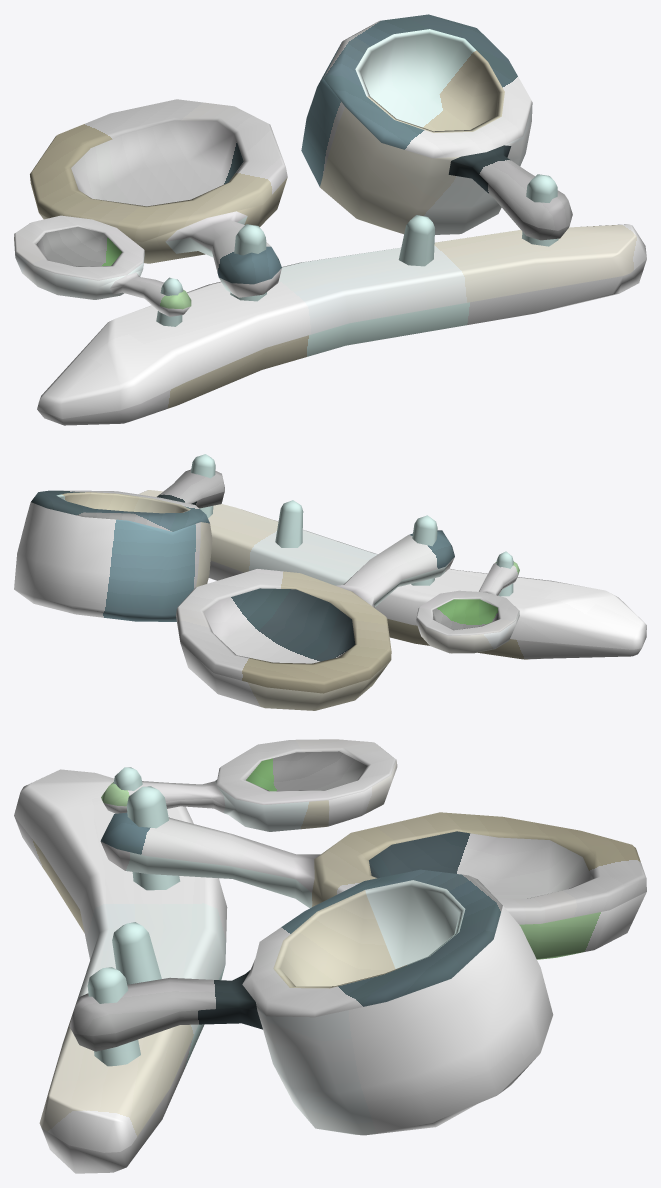
File: P_StoneWallPotRack.glb
The picture shows the model from 3 angles, top to bottom: view 1: azimuth 30°, elevation 25°; view 2: azimuth 150°, elevation 25°; view 3: azimuth 270°, elevation 25°; orthographic projection. The views are drawn at different scales.
Visible parts, largest first — view 1: P_StoneWallPotRack; view 2: P_StoneWallPotRack; view 3: P_StoneWallPotRack.
Boxes of the visible parts, left/top/right/bottom form: P_StoneWallPotRack: left=14, top=14, right=646, bottom=425; P_StoneWallPotRack: left=14, top=454, right=646, bottom=710; P_StoneWallPotRack: left=14, top=739, right=646, bottom=1173.
Bounding box in the file's own units: 0.9431 × 0.2569 × 0.6587.
Materials: 1 (1 with a texture image).
